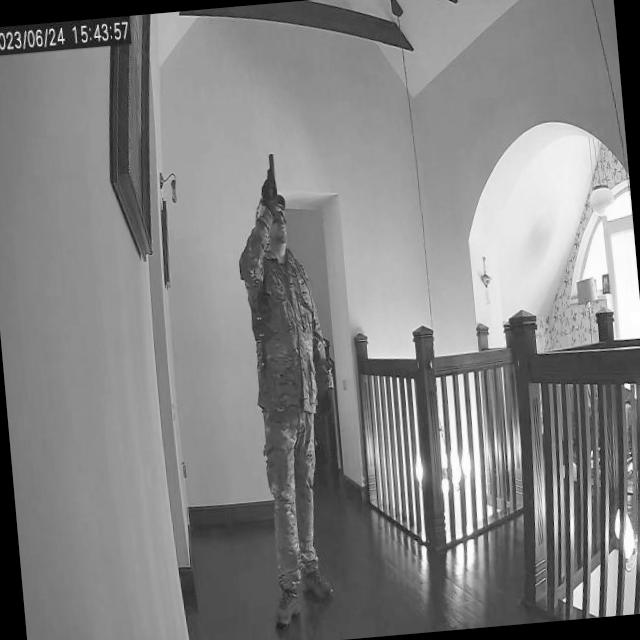gun: (258, 152, 280, 206)
person with a gun: (236, 192, 346, 622)
